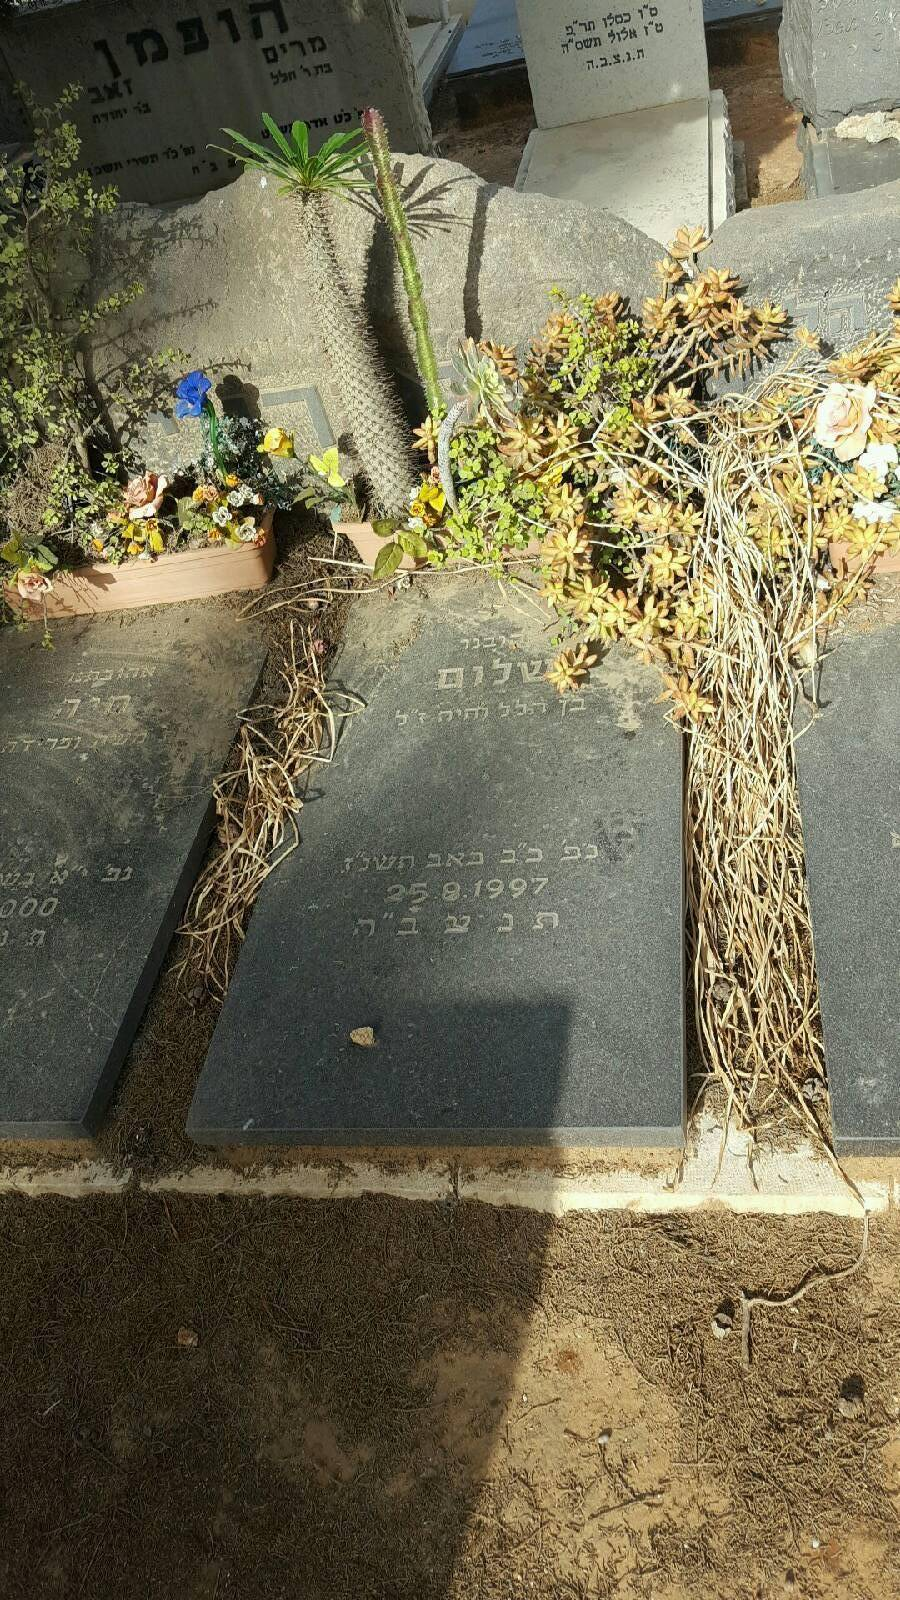vault: (143, 405, 740, 1307)
